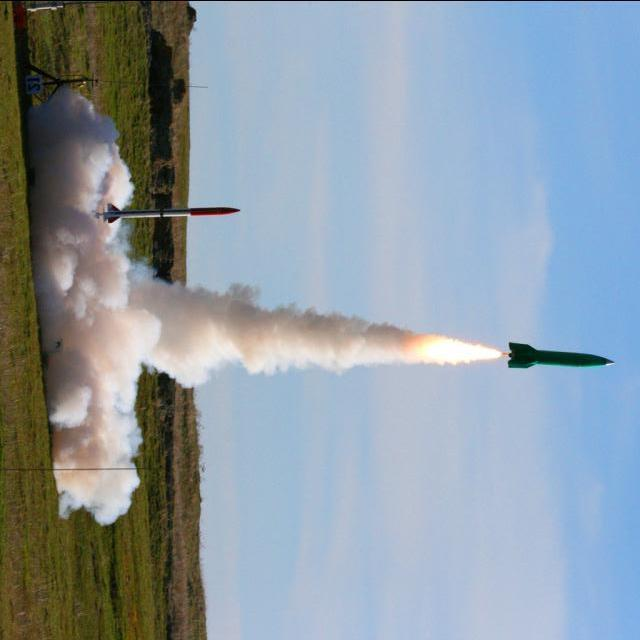missile: (94, 188, 243, 238), (500, 333, 616, 386)
